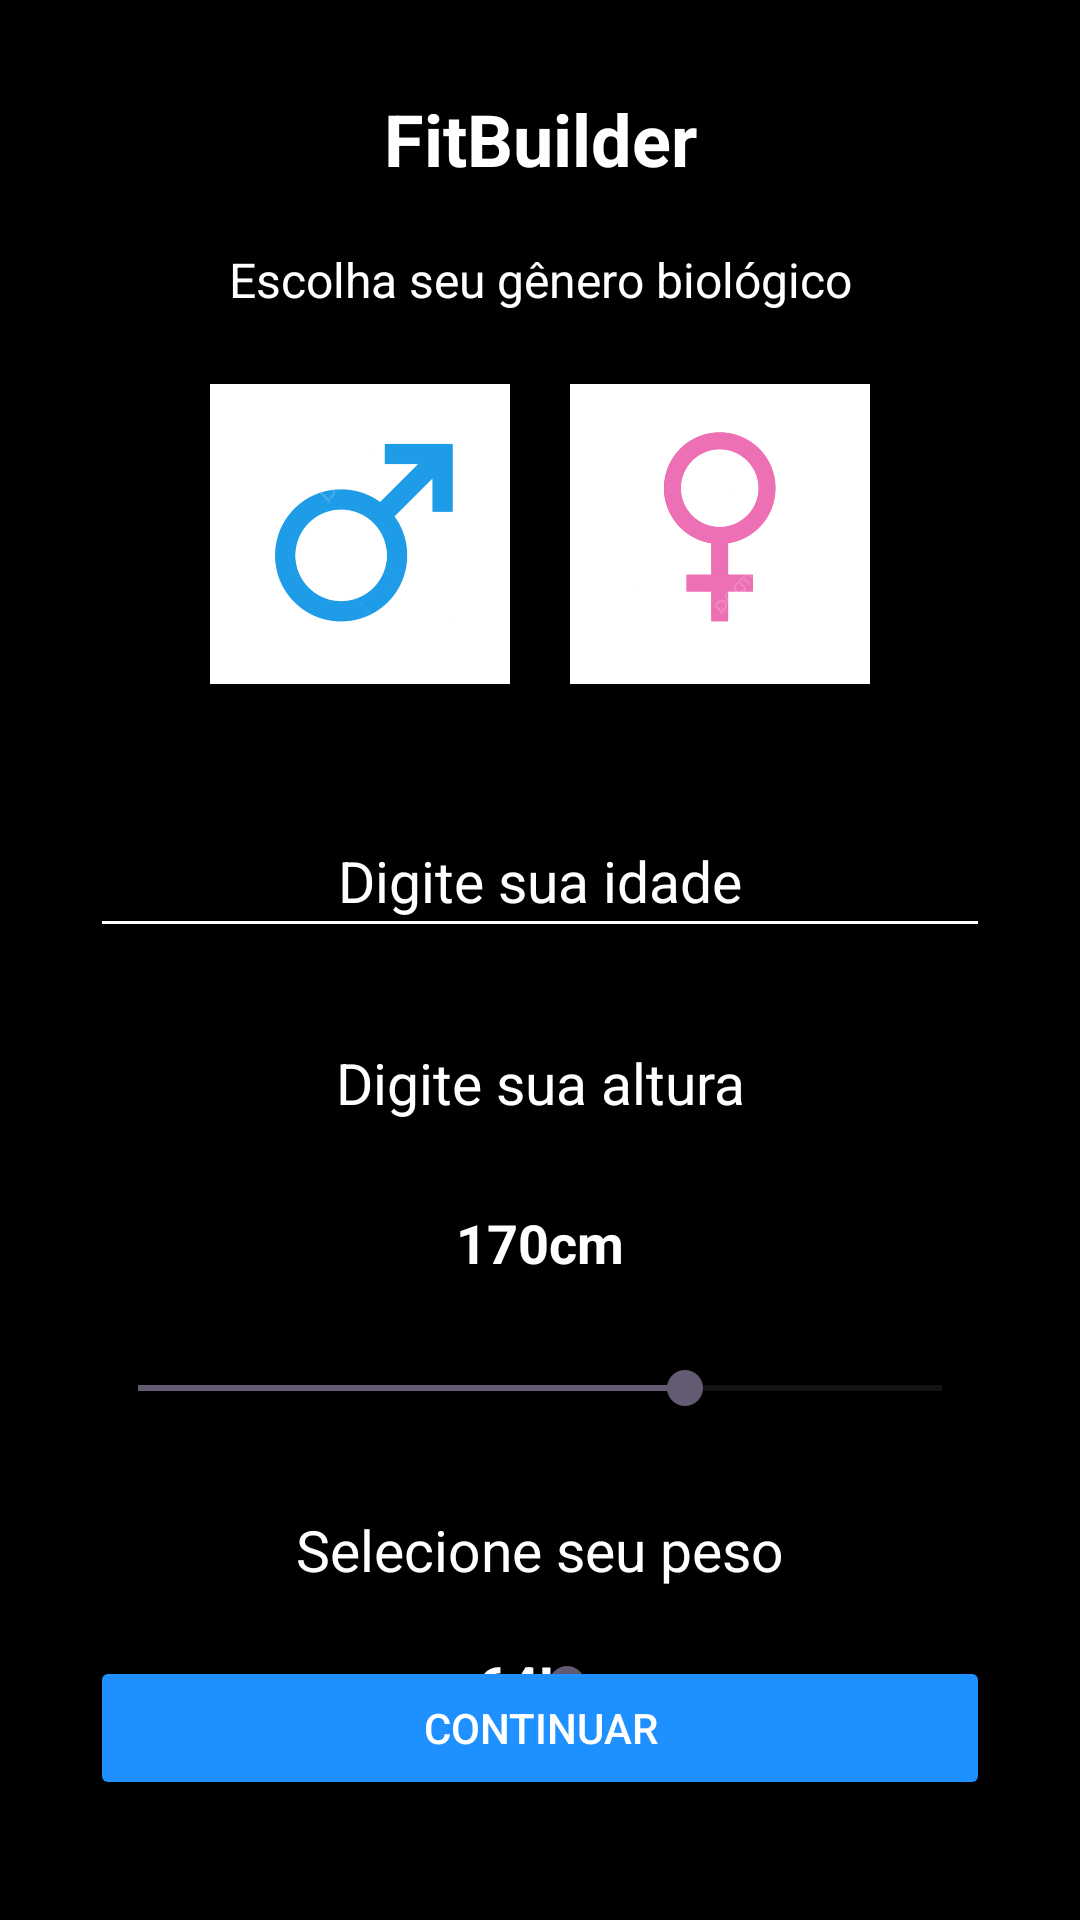

Icon click points for this 1080×1920 phone screenshot, format [x,y]:
fem: [720,534]
masc: [360,534]
